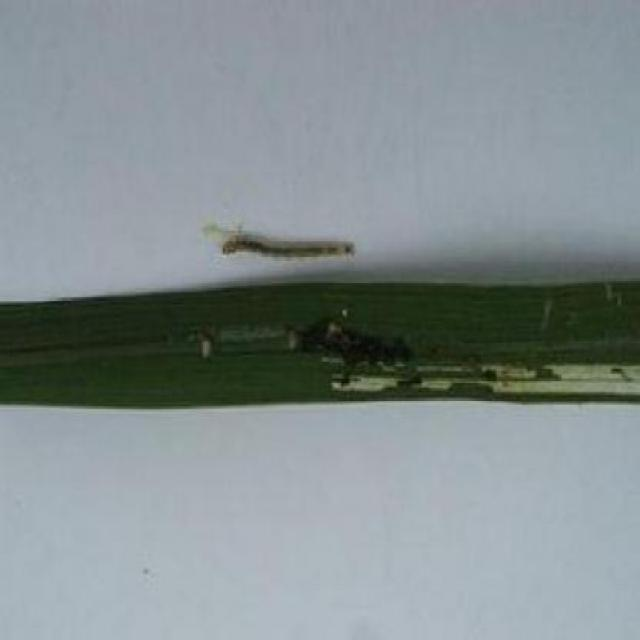leaf-folder: (209, 204, 366, 282)
